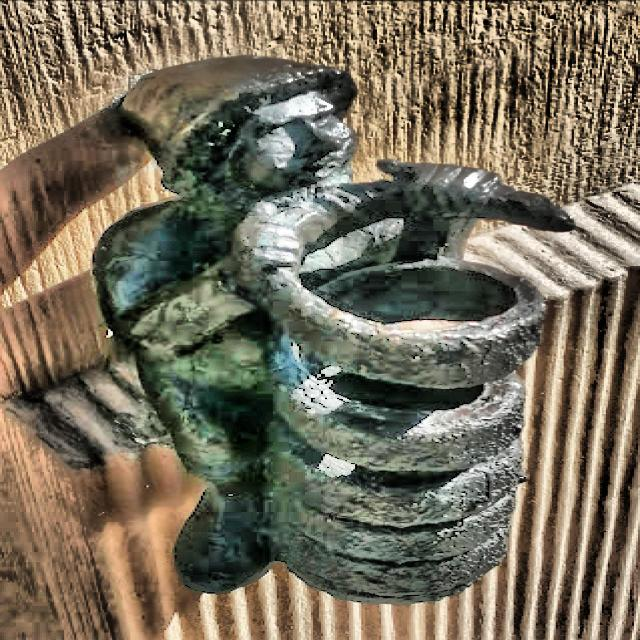Czimnejek: (76, 50, 594, 610)
